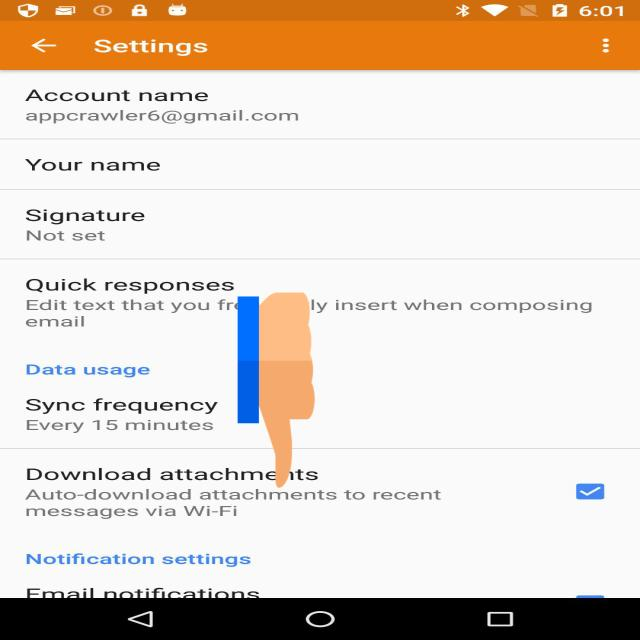obstruction: (238, 288, 314, 492)
